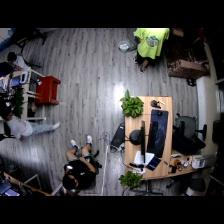normal: (57, 135, 96, 190), (2, 108, 62, 137), (132, 28, 166, 71), (7, 53, 32, 77)
